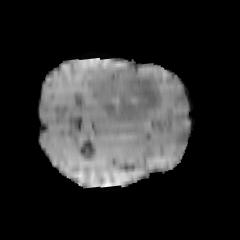glioma: (89, 66, 163, 122)
